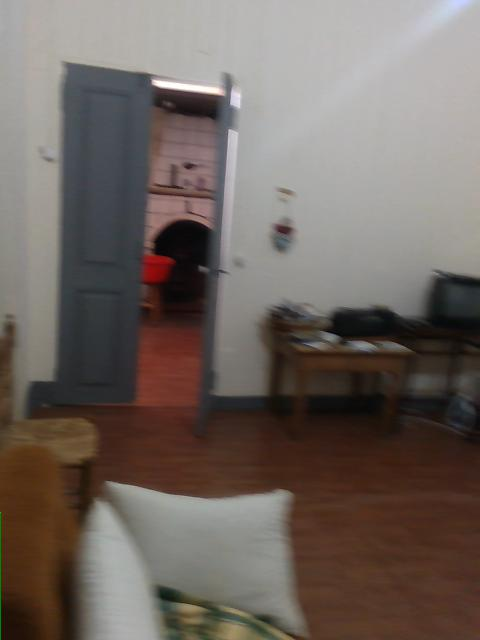open_door: (53, 61, 244, 425)
